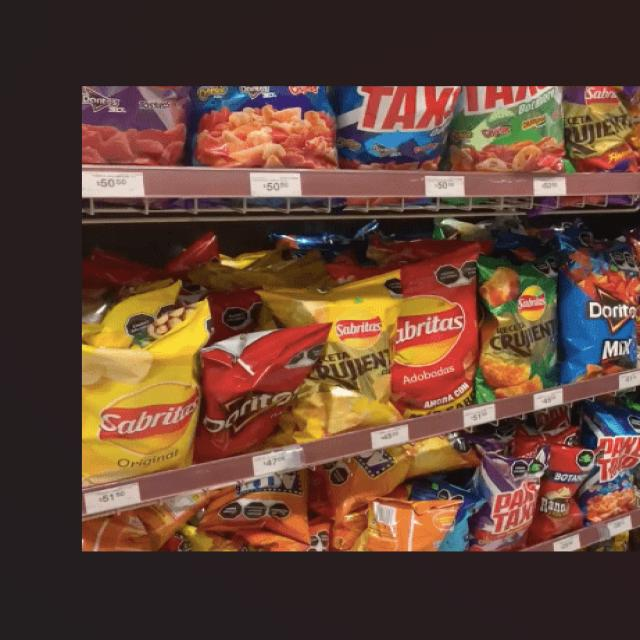sabritasOriginal: (77, 326, 198, 470)
